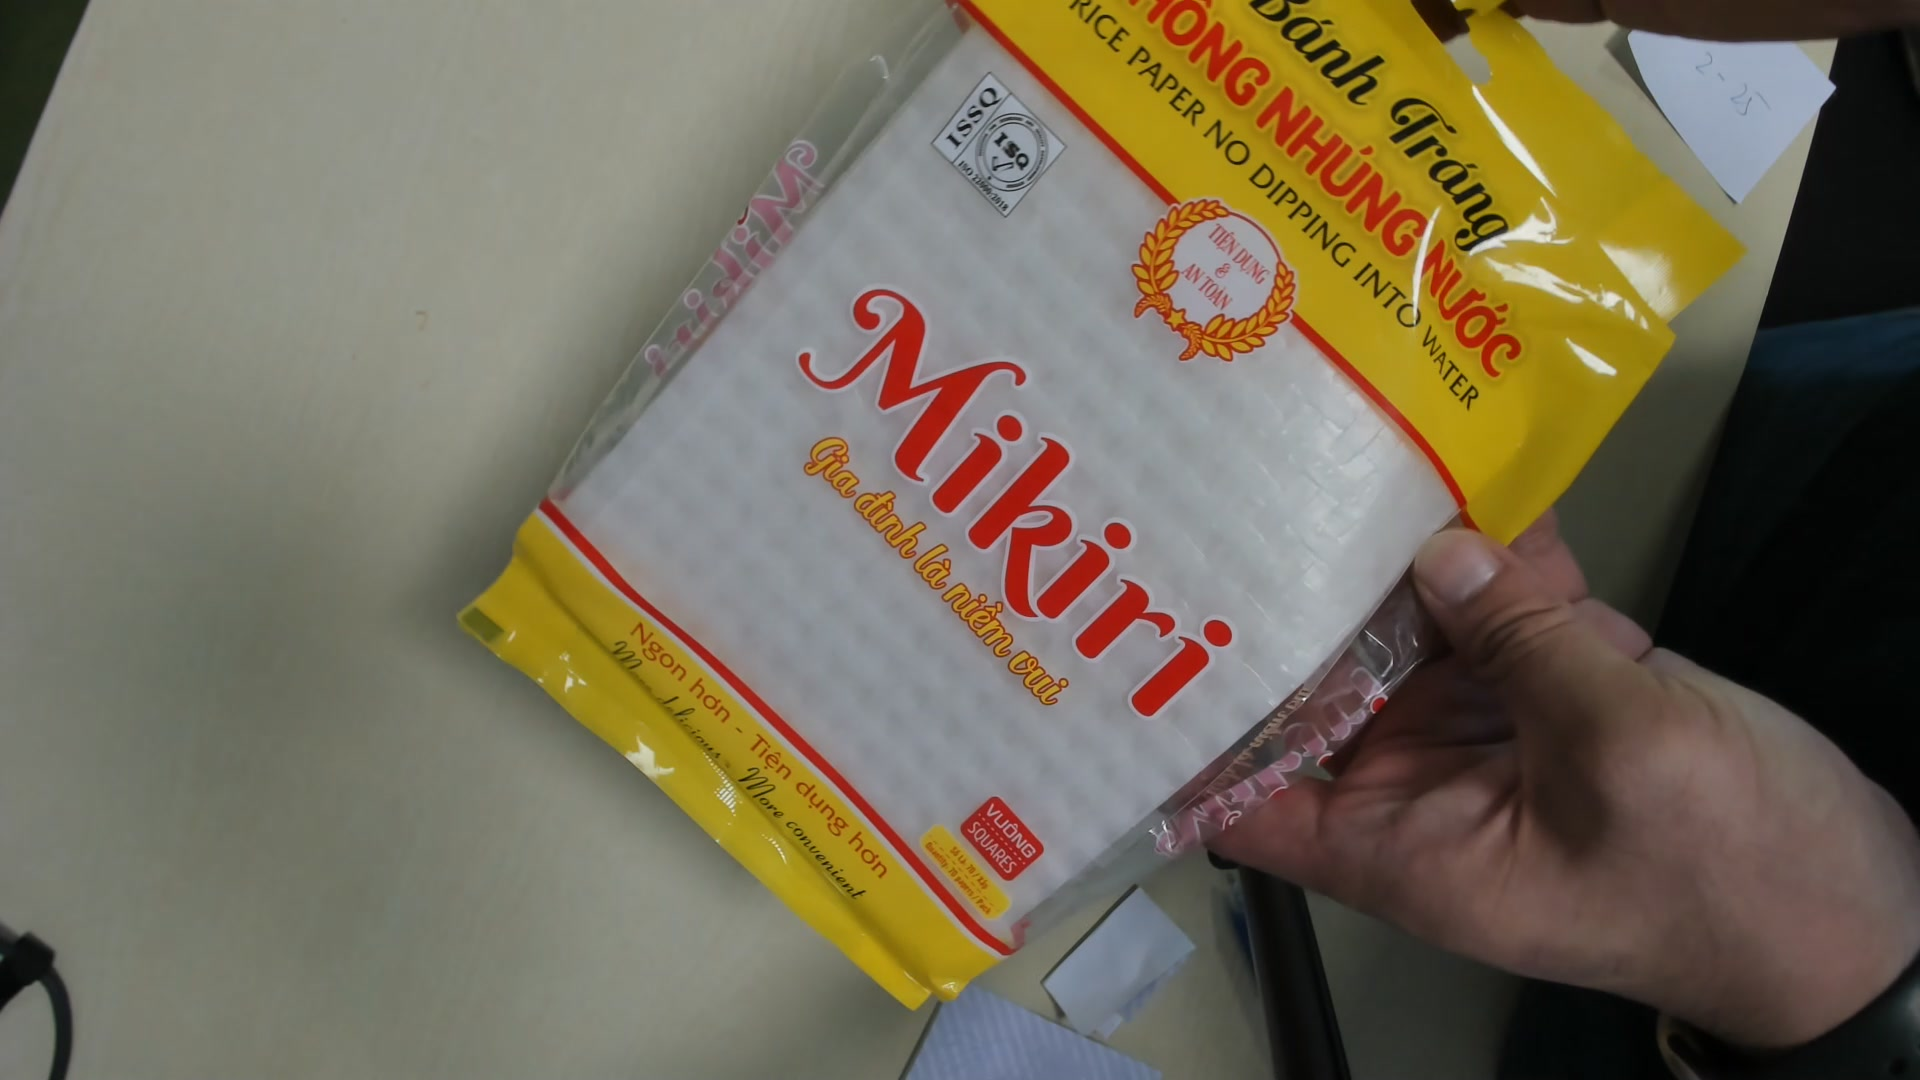InstantMeals_200_299g_NonHalal_NonHealthy: (456, 5, 1735, 1006)
